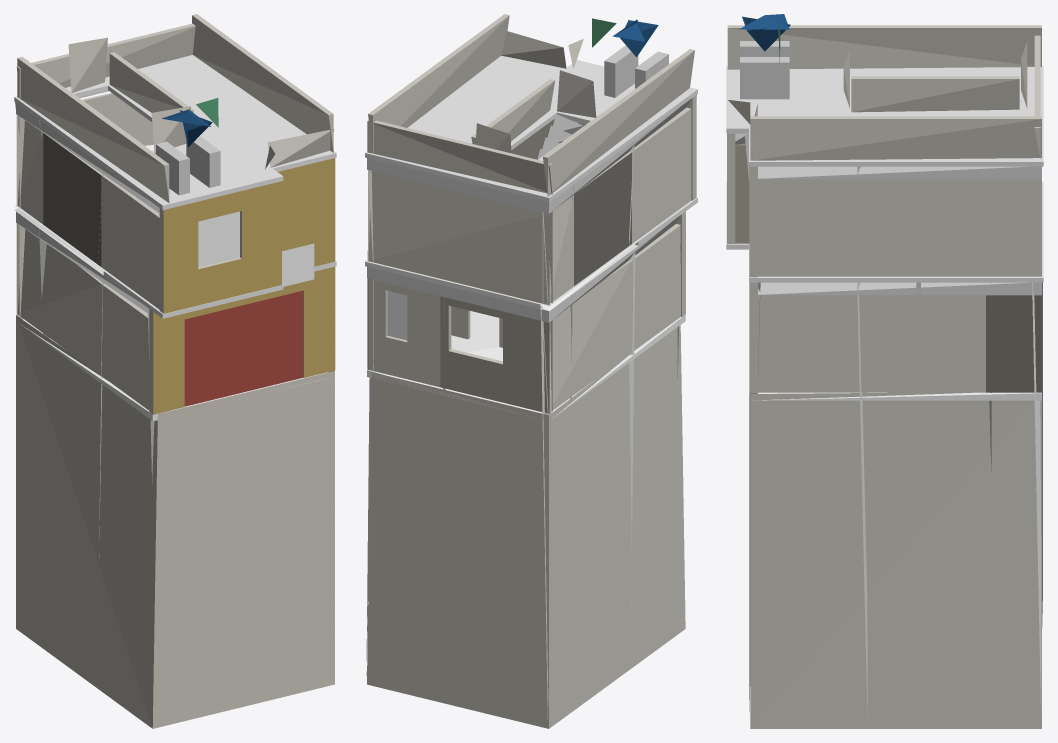
The picture shows the model from 3 angles, left to right: view 1: azimuth 30°, elevation 25°; view 2: azimuth 150°, elevation 25°; view 3: azimuth 270°, elevation 25°; orthographic projection. The views are drawn at different scales.
Visible parts, largest first — view 1: F_21; view 2: F_21; view 3: F_21.
Part boxes in pixels (x1,y1,x2,y2): F_21: [14, 14, 336, 728]; F_21: [365, 14, 697, 728]; F_21: [726, 14, 1043, 728].
Bounding box in the file's own units: 5.06 × 15.78 × 7.06.
